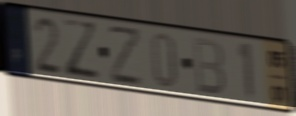0: (149, 30, 179, 91)
1: (236, 40, 255, 104)
2: (31, 15, 63, 77)
B: (191, 35, 227, 98)
Z: (60, 16, 102, 81), (107, 25, 145, 88)
